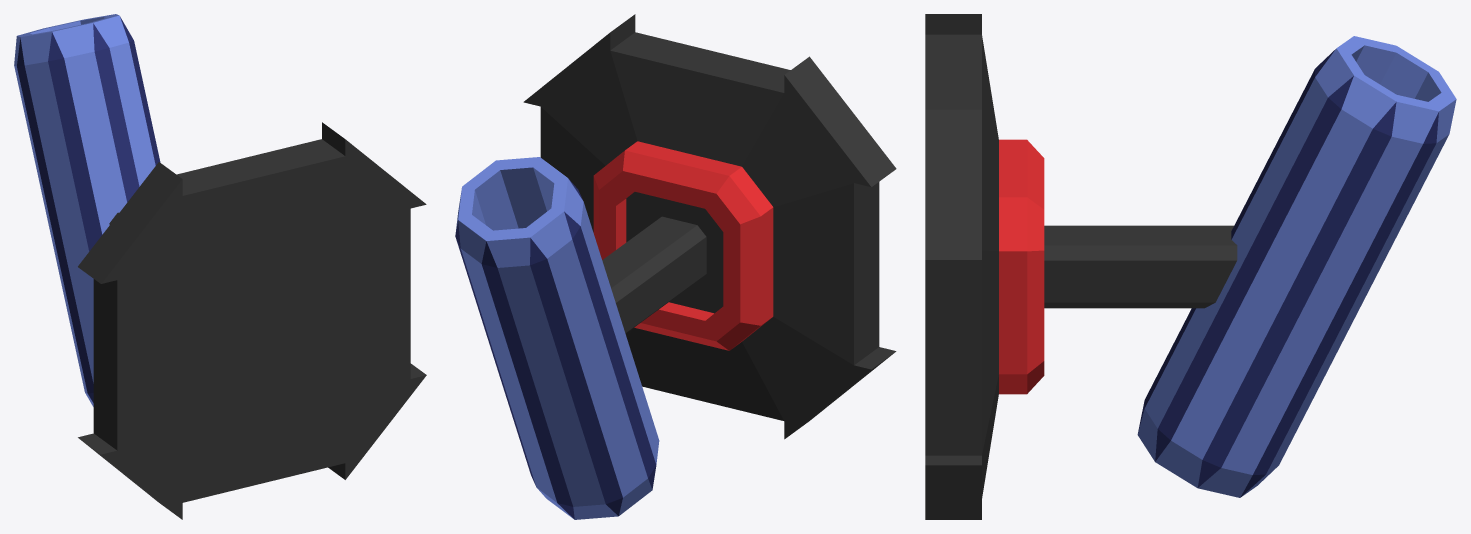
Rendered from Turret.fbx.
3 renders of one model, left to right at view 1: azimuth 30°, elevation 25°; view 2: azimuth 150°, elevation 25°; view 3: azimuth 270°, elevation 25°, orthographic. The views are drawn at different scales.
Visible parts, largest first — view 1: TurretBase, TurretBarrel; view 2: TurretBase, TurretBarrel; view 3: TurretBarrel, TurretBase.
Boxes of the visible parts, x1,y1,x2,y2 form: TurretBase: (78, 122, 426, 519); TurretBarrel: (14, 14, 160, 406); TurretBase: (523, 14, 896, 439); TurretBarrel: (455, 157, 659, 519); TurretBarrel: (1137, 36, 1456, 497); TurretBase: (925, 14, 1237, 519).
Size of the model in its own units: 200 by 213 by 235.
